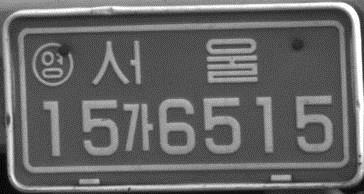1: (38, 97, 66, 159), (253, 95, 277, 155)
5: (200, 96, 243, 155), (293, 94, 335, 153), (80, 97, 120, 157)
6: (159, 96, 196, 155)
가: (122, 100, 156, 154)
서울_D: (88, 34, 260, 90)
영: (29, 40, 76, 89)
